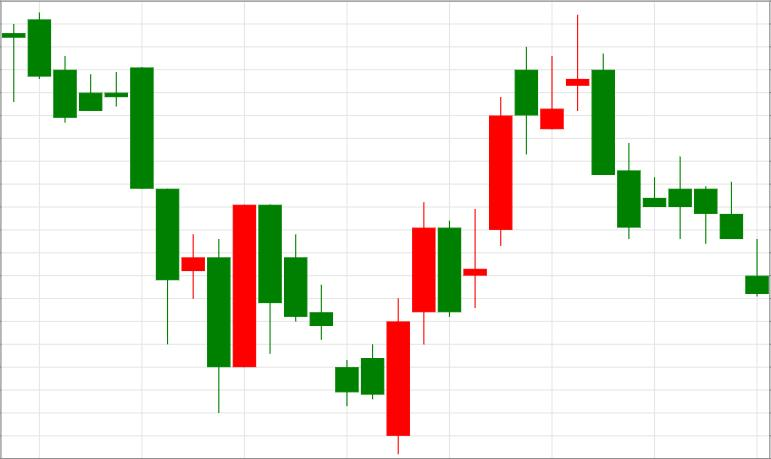bullish_engulfing_rise: (259, 205, 410, 454)
